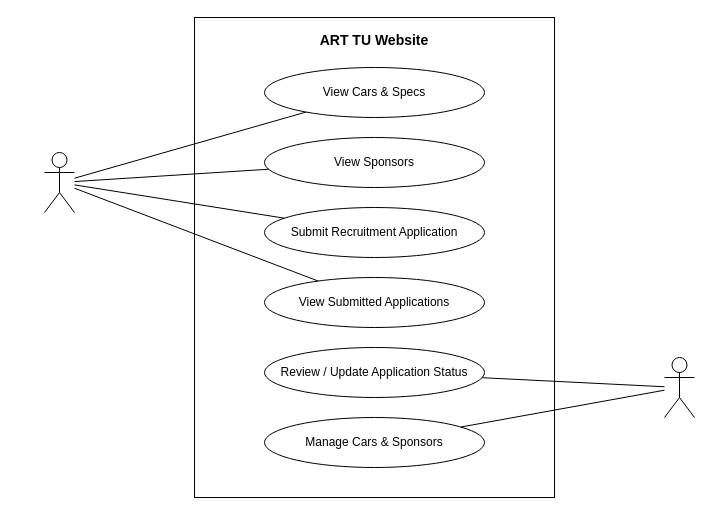
Some shapes in this 714 by 515 pixel diagram are drawn without their labels. The centre of each missing label's shape, as x and y in pixels:
"Admin" belongs at (679,387).
"Visitor / Student" belongs at (59,182).
